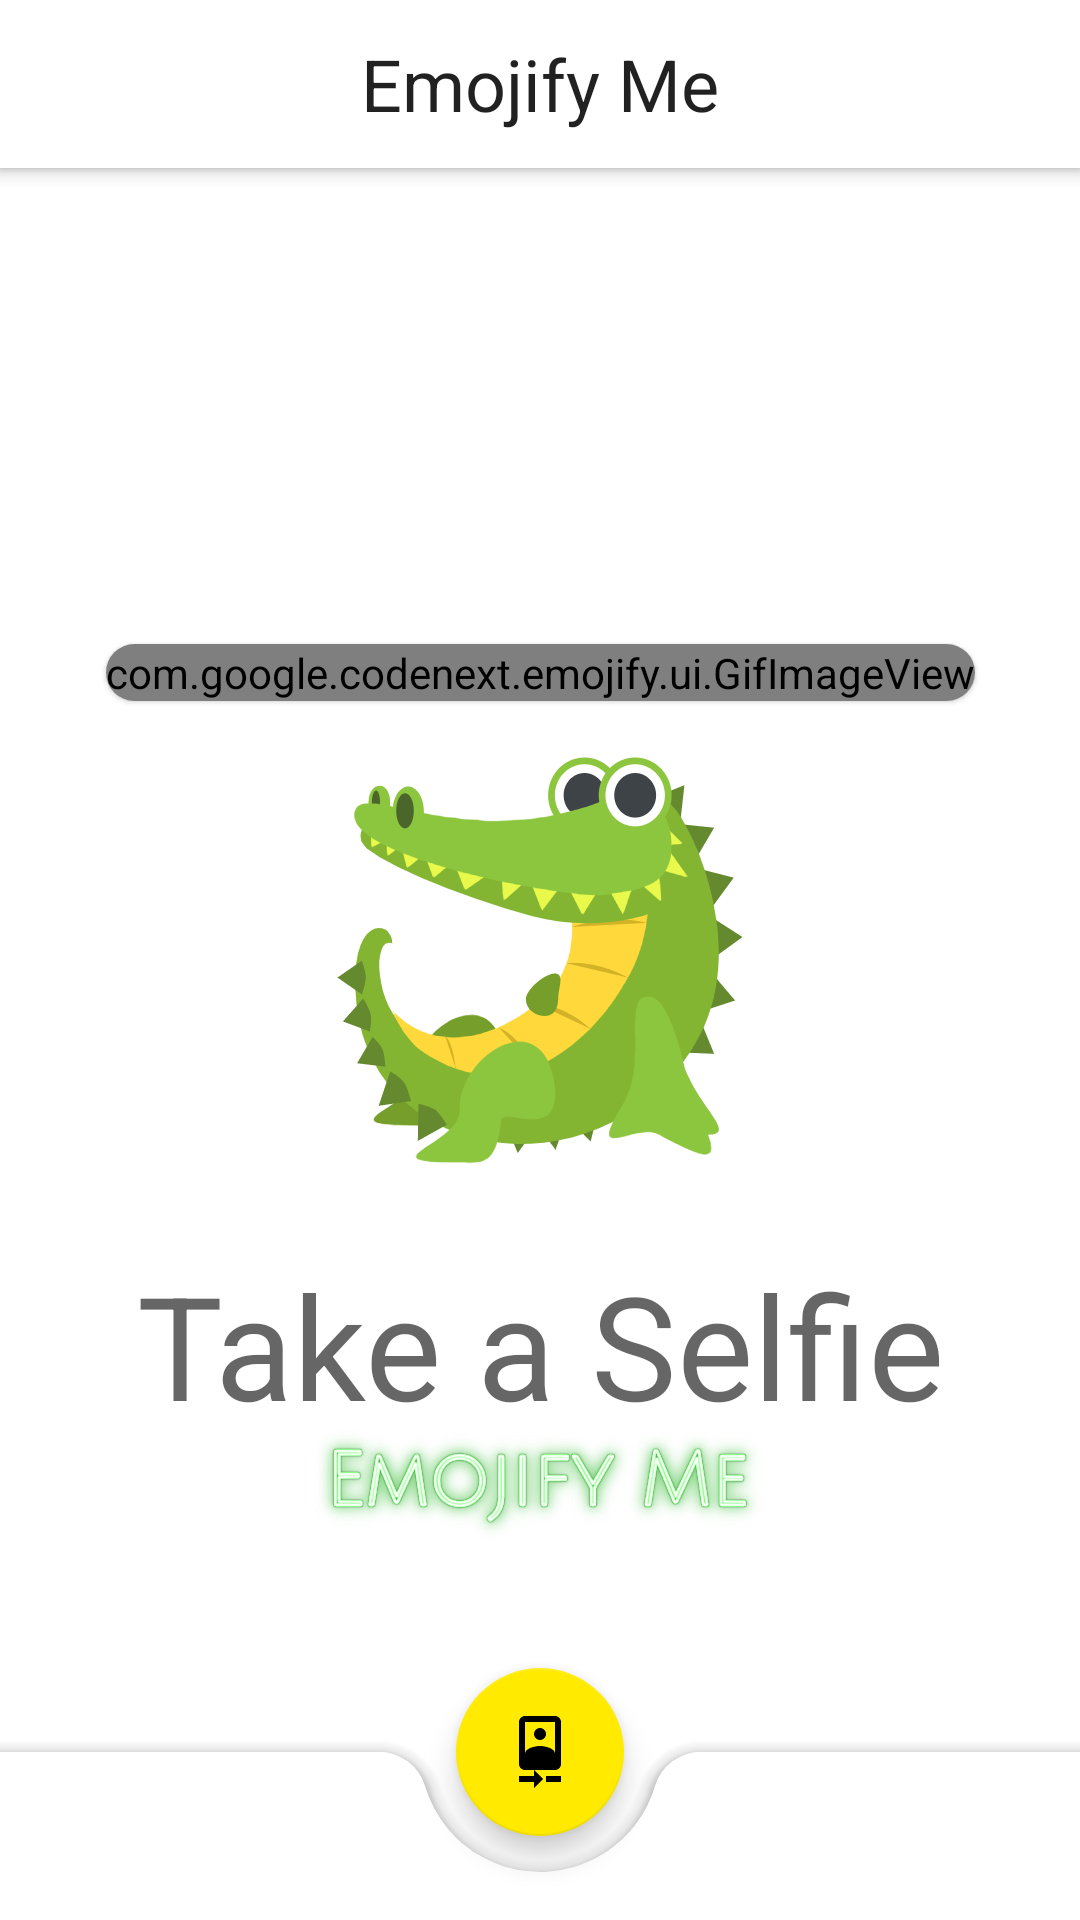

Named icons in this screenshot (1080*1920) and their bounding boxes, (x1, y1, x2, y2):
Take a Selfie: (456, 1668, 624, 1836)
